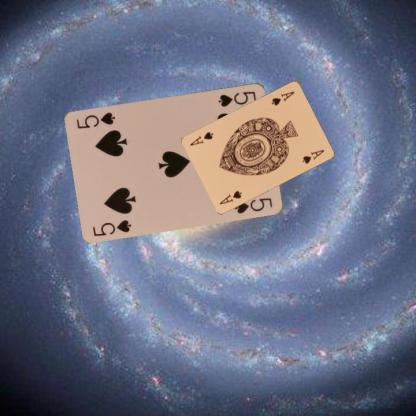5s: (90, 217, 133, 237), (216, 88, 258, 107)
As: (268, 88, 296, 106), (216, 188, 244, 206)
